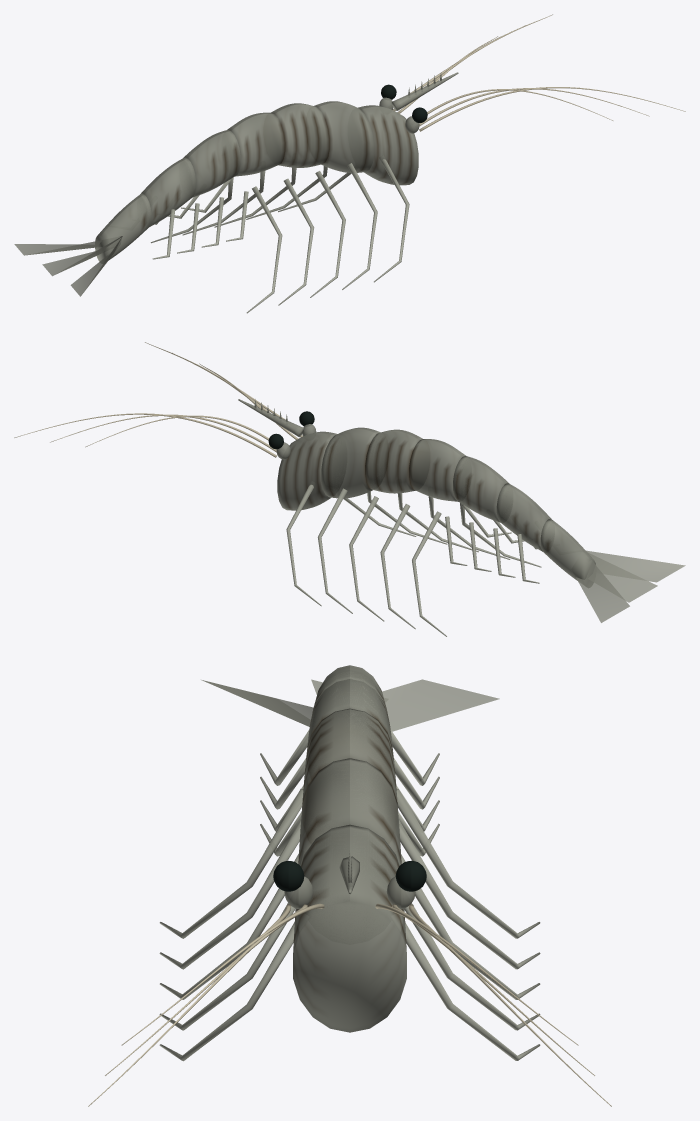
Rendered from amanoshrimp-desktop.glb.
3 views of the same model, one above another, from view 1: azimuth 30°, elevation 25°; view 2: azimuth 150°, elevation 25°; view 3: azimuth 270°, elevation 25° (orthographic). The views are drawn at different scales.
Parts seen in each view (by area): view 1: carapace, pereiopod, antenna, pleopod, serrated-rostrum; view 2: carapace, pereiopod, antenna, pleopod, serrated-rostrum; view 3: carapace, pereiopod, antenna, pleopod, eye, eye-stalk.
Part boxes in pixels (x1,y1,x2,y2): carapace: [14, 101, 418, 296]; pereiopod: [150, 156, 409, 313]; antenna: [393, 14, 685, 131]; pleopod: [152, 179, 248, 259]; serrated-rostrum: [391, 72, 458, 110]; carapace: [277, 427, 685, 622]; pereiopod: [286, 481, 541, 636]; antenna: [14, 342, 302, 457]; pleopod: [445, 504, 539, 583]; serrated-rostrum: [238, 399, 303, 437]; carapace: [201, 665, 499, 1032]; pereiopod: [159, 789, 540, 1061]; antenna: [88, 903, 611, 1106]; pleopod: [260, 730, 439, 856]; eye: [273, 860, 426, 891]; eye-stalk: [284, 876, 415, 908].
Size of the model in its own units: 1.18 by 0.2932 by 0.4706.
